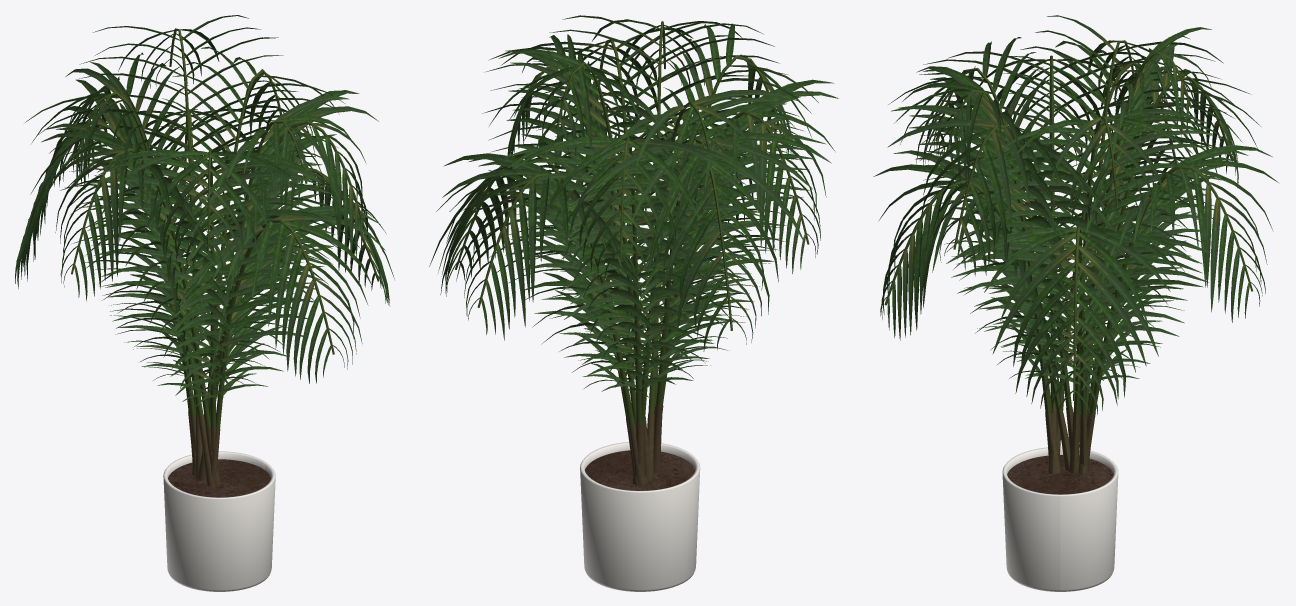
Rendered from kentia_190.glb.
3 views of the same model, side by side, from view 1: azimuth 30°, elevation 25°; view 2: azimuth 150°, elevation 25°; view 3: azimuth 270°, elevation 25° (orthographic). The views are drawn at different scales.
Parts seen in each view (by area): view 1: kentia_190; view 2: kentia_190; view 3: kentia_190.
Part boxes in pixels (x1=…): kentia_190: x1=15, y1=15, x2=394, y2=591; kentia_190: x1=429, y1=15, x2=838, y2=591; kentia_190: x1=873, y1=15, x2=1279, y2=591.
Bounding box in the file's own units: 1.35 × 1.9 × 1.35.
3 materials, 2 textured.
